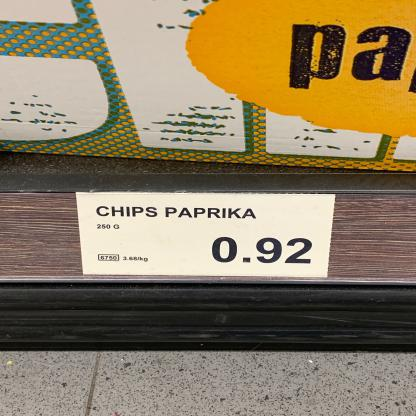prtg: (76, 192, 339, 278)
